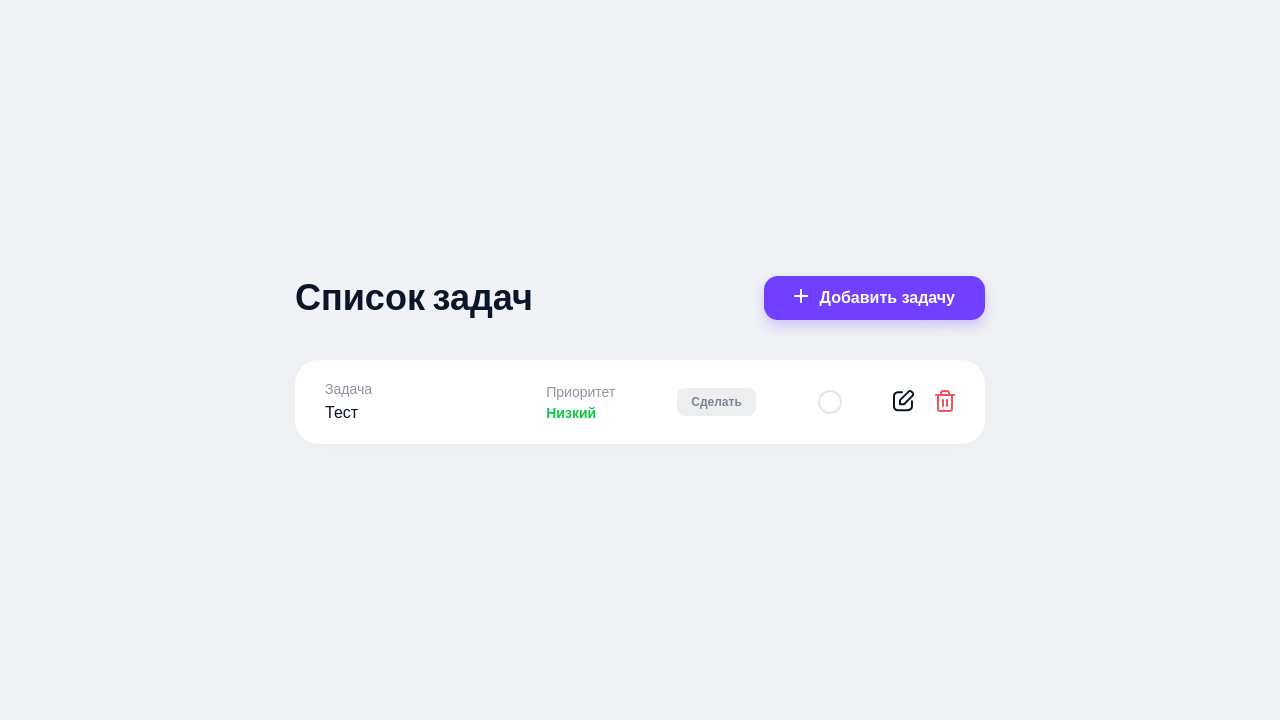
Test: Тесты для модалки удаления задачи › Клик по иконке корзины должен открывать модалку подтверждения
This screenshot has width=1280, height=720.
Step 1. Click the icon with test id "delete-icon" → click(945, 400), box [935,390,955,412]
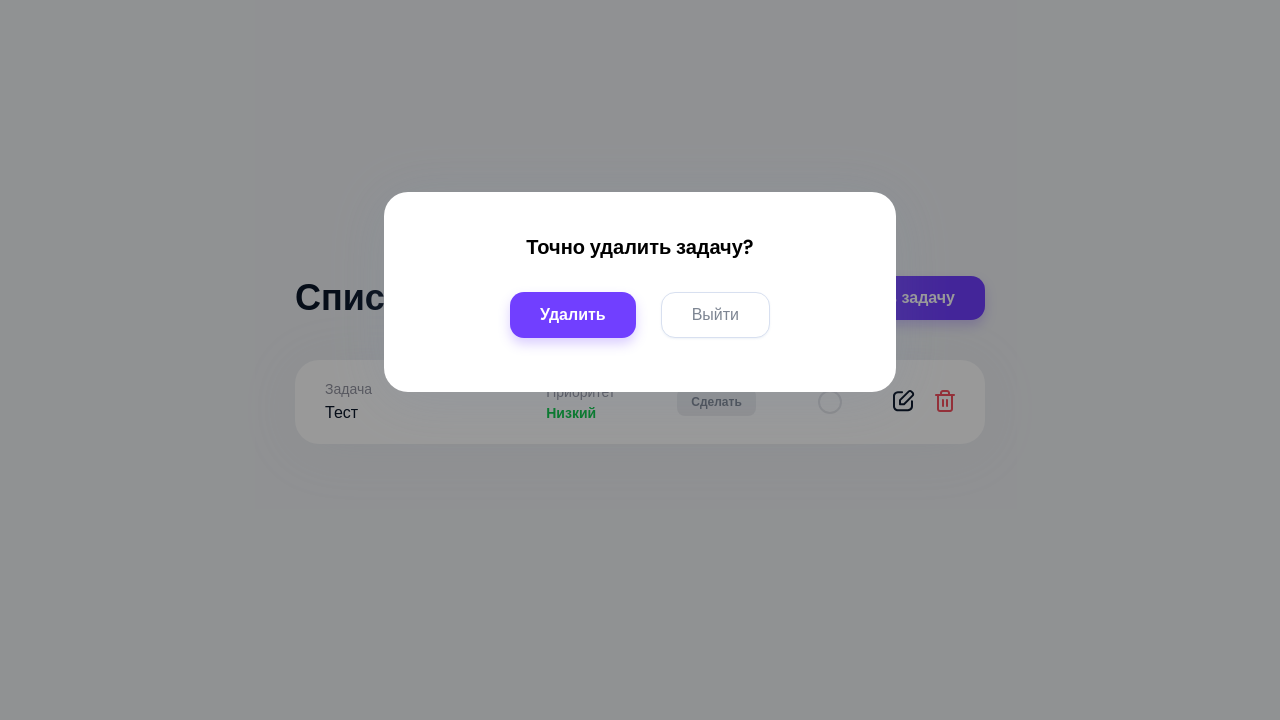
Now the element with test id "delete-task-modal" is shown, box [490,232,790,338]
